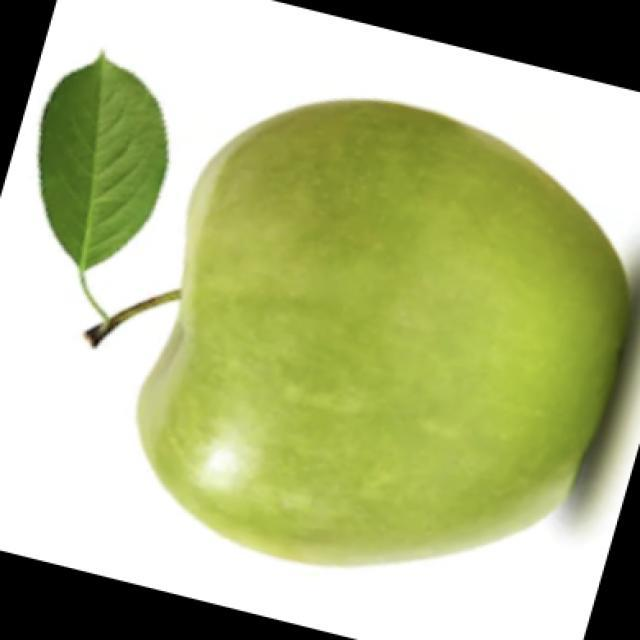Fresh Apple: (115, 106, 640, 640)
